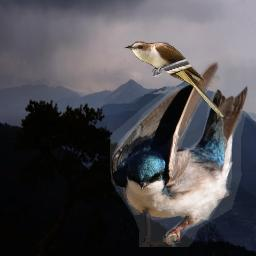Cuckoo: (124, 41, 226, 119)
Swallow: (110, 60, 250, 247)
